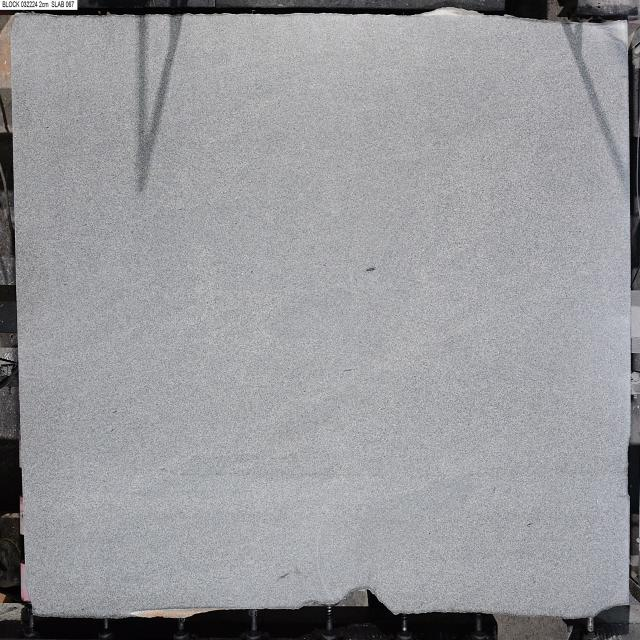chapa: (12, 10, 630, 617)
